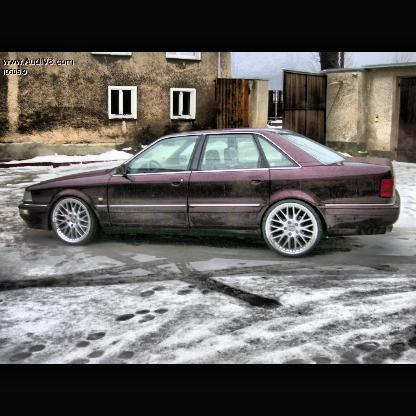Audi V8 Sedan 1994: (20, 130, 400, 258)
